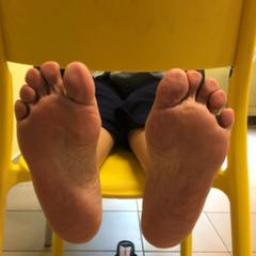Plantar View -Both Feet-: (4, 42, 241, 252)
